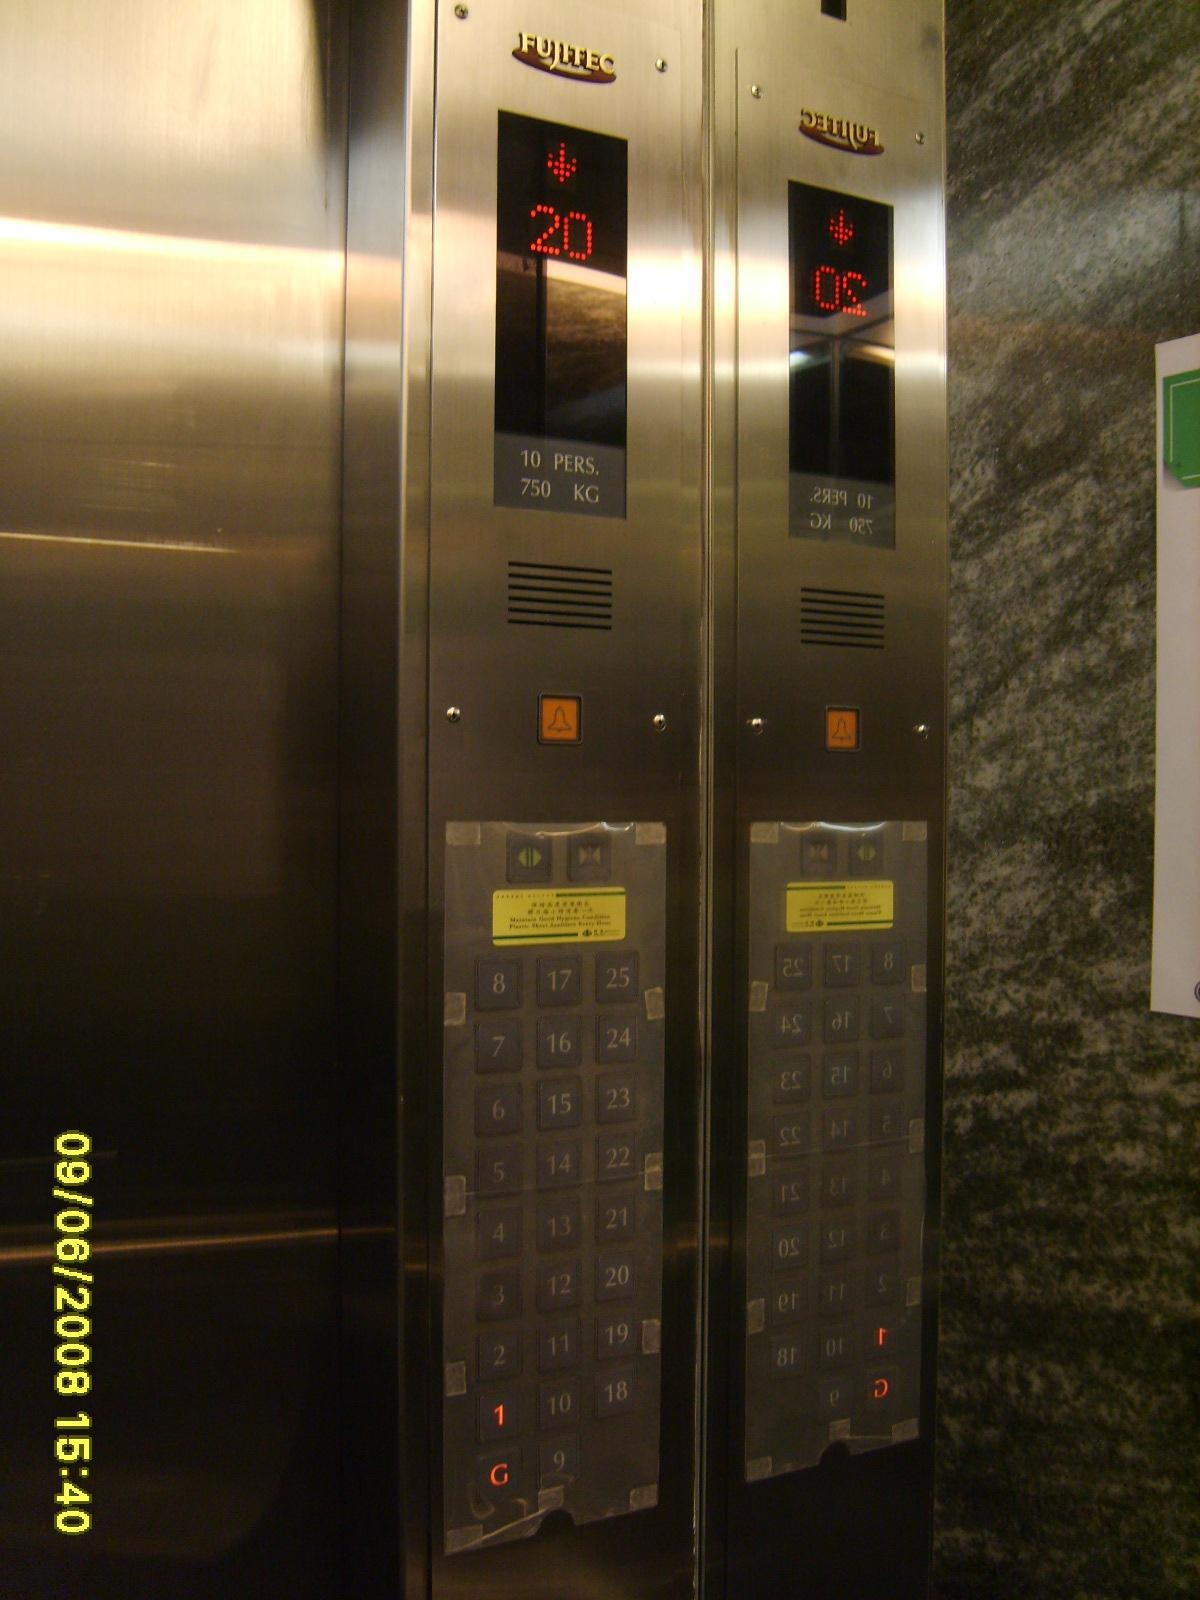1: (473, 1385, 524, 1443)
10: (533, 1376, 585, 1432)
11: (533, 1317, 585, 1373)
12: (534, 1254, 587, 1311)
13: (534, 1194, 586, 1251)
14: (532, 1134, 584, 1191)
15: (533, 1073, 585, 1133)
16: (531, 1012, 584, 1072)
17: (533, 950, 585, 1010)
18: (592, 1361, 644, 1419)
19: (592, 1306, 644, 1363)
2: (473, 1327, 524, 1383)
20: (590, 1249, 642, 1305)
21: (591, 1188, 643, 1245)
22: (590, 1129, 642, 1186)
23: (591, 1068, 643, 1128)
24: (592, 1008, 644, 1068)
25: (592, 945, 644, 1005)
3: (473, 1265, 524, 1322)
4: (474, 1202, 526, 1259)
5: (474, 1140, 526, 1199)
6: (473, 1077, 524, 1136)
7: (471, 1015, 524, 1076)
8: (471, 952, 524, 1013), (866, 937, 909, 986)
9: (531, 1432, 584, 1489)
G: (474, 1445, 526, 1502)
alarm: (534, 687, 587, 747), (821, 700, 863, 757)
close: (561, 826, 613, 886), (794, 826, 842, 881)
led: (487, 100, 642, 524), (771, 169, 903, 556)
open: (504, 828, 556, 888), (843, 826, 892, 881)
unknown: (771, 941, 816, 990), (766, 1279, 811, 1328), (863, 1207, 908, 1256), (818, 939, 861, 988), (770, 997, 813, 1046), (770, 1054, 813, 1104), (770, 1111, 813, 1160), (769, 1168, 812, 1217), (769, 1225, 812, 1274), (766, 1330, 809, 1380), (818, 994, 861, 1043), (817, 1049, 860, 1099), (818, 1106, 861, 1155), (816, 1162, 858, 1211), (816, 1214, 858, 1264), (814, 1267, 857, 1317), (813, 1324, 856, 1373), (858, 1313, 901, 1362), (861, 1261, 904, 1310), (861, 1364, 904, 1414), (866, 1047, 909, 1096), (866, 1102, 909, 1151), (865, 1155, 908, 1204), (868, 993, 911, 1042), (814, 1374, 855, 1422)
